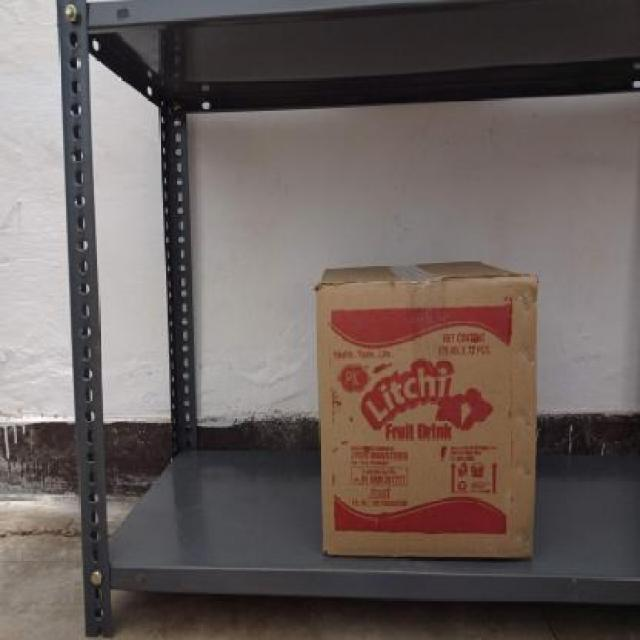box: (318, 277, 537, 559)
